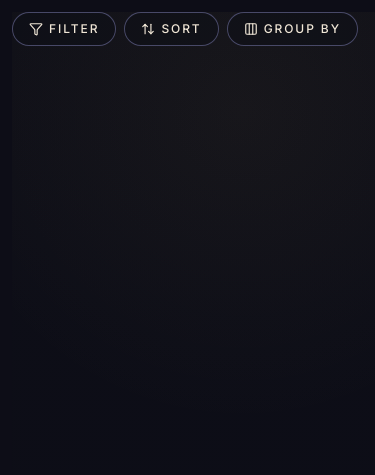
BoardToolbar › opens filter panel when Filter button is clicked
Click the button "Filter" at x=64, y=29, box x1=12 y1=12 x2=116 y2=46
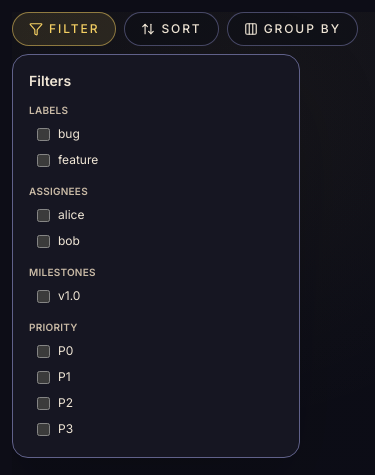
Expected: the text "bug" is shown, x1=58 y1=126 x2=80 y2=142
Expected: the text "feature" is shown, x1=58 y1=152 x2=98 y2=168
